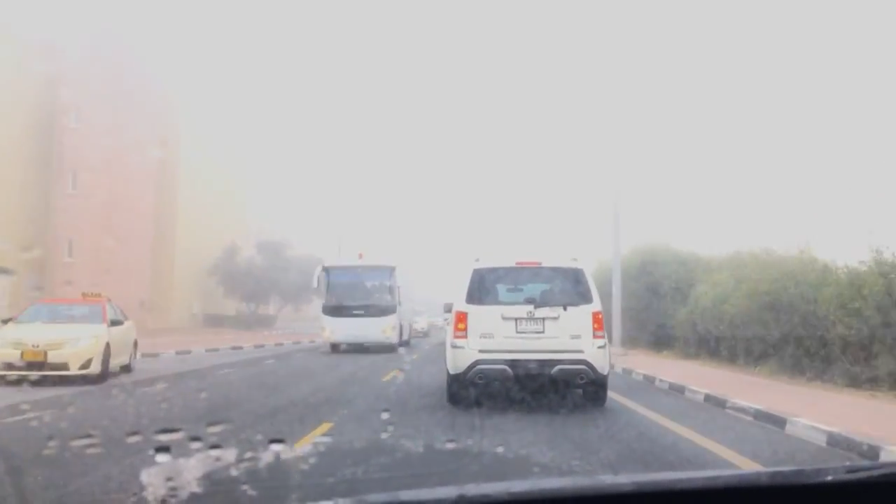bus: (309, 253, 415, 356)
car: (438, 256, 614, 413), (1, 289, 140, 387), (391, 305, 427, 339), (425, 310, 445, 328)
